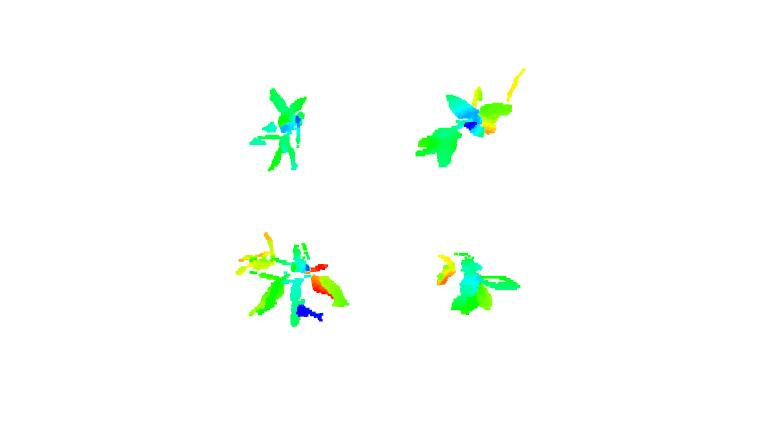mungbean: (233, 233, 351, 328), (411, 82, 515, 167), (244, 84, 318, 174), (434, 246, 524, 320)
